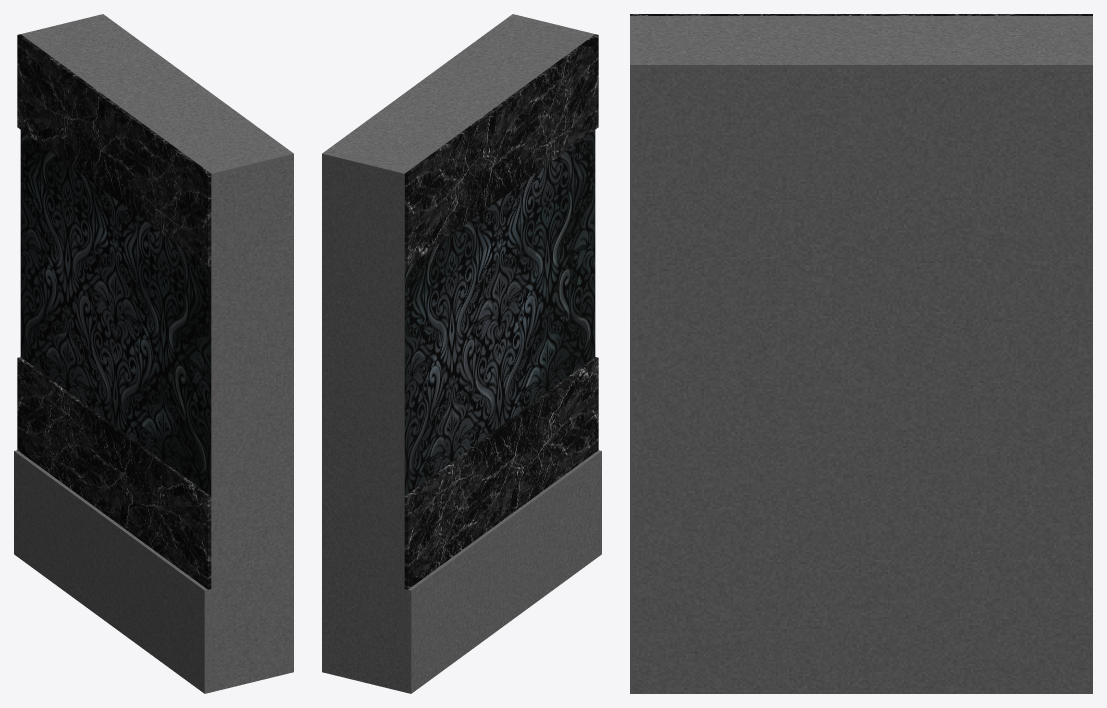
The model's file is Wall_Plain.fbx.
3 renders of one model, left to right at view 1: azimuth 30°, elevation 25°; view 2: azimuth 150°, elevation 25°; view 3: azimuth 270°, elevation 25°, orthographic. The views are drawn at different scales.
Visible parts, largest first — view 1: wall plain; view 2: wall plain; view 3: wall plain.
Boxes of the visible parts, left/top/right/bottom form: wall plain: left=14, top=14, right=293, bottom=693; wall plain: left=322, top=14, right=601, bottom=693; wall plain: left=630, top=14, right=1092, bottom=693.
Size of the model in its own units: 0.54 by 3 by 2.
